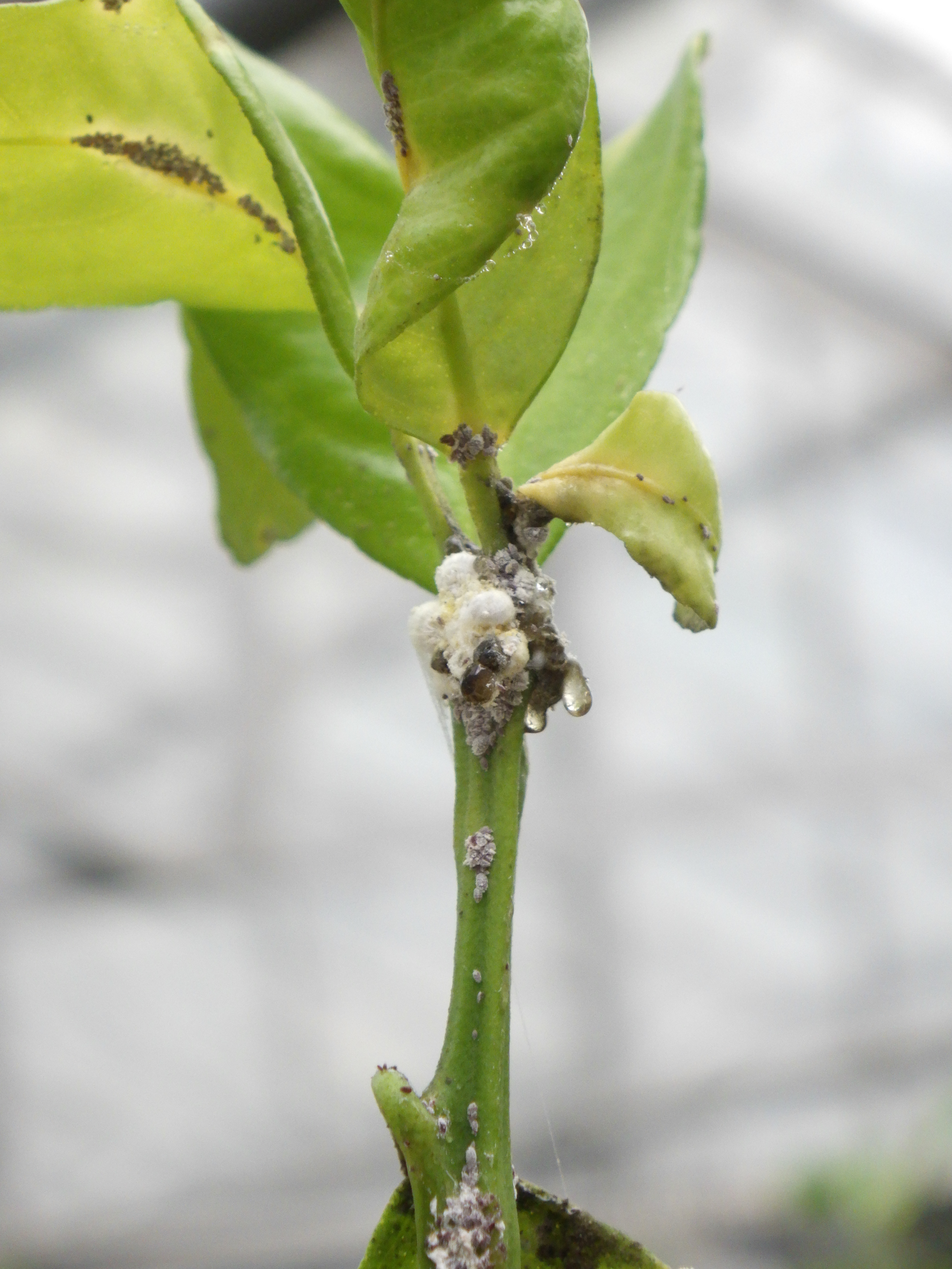Scale_Insect: (409, 550, 578, 758)
